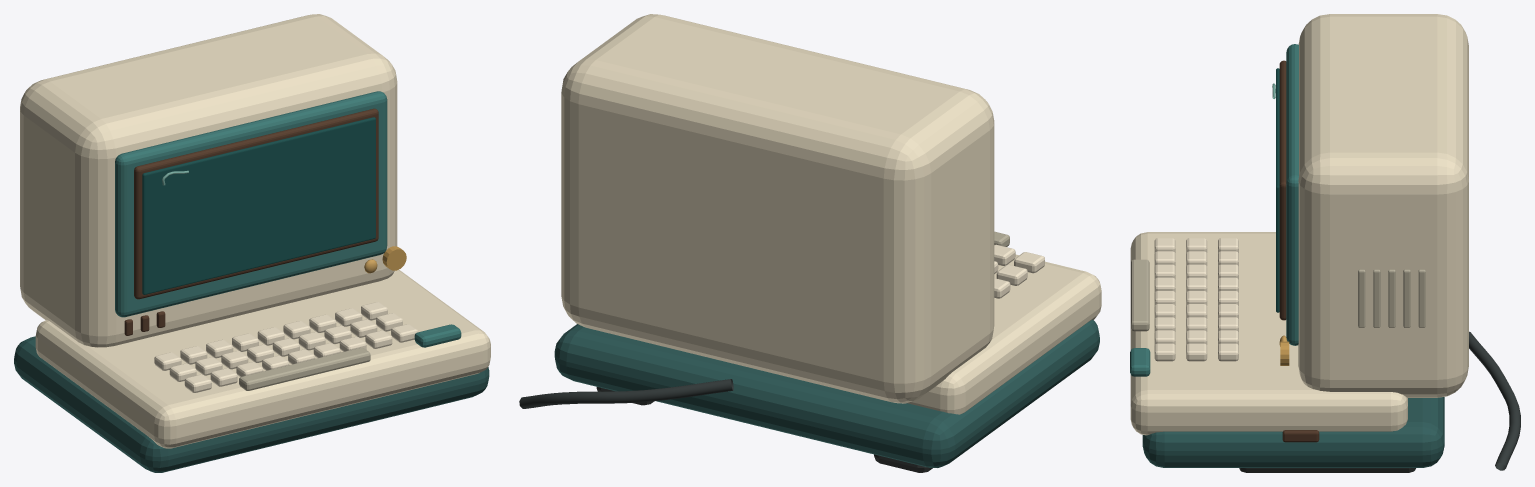
3 renders of one model, left to right at view 1: azimuth 30°, elevation 25°; view 2: azimuth 150°, elevation 25°; view 3: azimuth 270°, elevation 25°, orthographic. The views are drawn at different scales.
Parts seen in each view (by area): view 1: Monitor shell, Cream keyboard deck, terminal_screen, Teal lower chassis, Teal inner bezel, Dark screen well, Long space key, Teal send key; view 2: Monitor shell, Teal lower chassis, Cream keyboard deck, Rear power lead; view 3: Monitor shell, Cream keyboard deck, Teal lower chassis, Teal inner bezel, Dark screen well, Rear power lead, Long space key, terminal_screen, Soft rubber foot.001, Teal send key, Handset docking port, Side vent 0 (+4 smaller).
Part boxes in pixels (box(x1,y1,x2,y2)): Monitor shell: box(20, 14, 397, 347); Cream keyboard deck: box(35, 269, 490, 448); terminal_screen: box(142, 117, 375, 294); Teal lower chassis: box(14, 336, 489, 472); Teal inner bezel: box(115, 91, 387, 317); Dark screen well: box(134, 108, 378, 299); Long space key: box(239, 347, 370, 390); Teal send key: box(414, 324, 461, 347); Monitor shell: box(561, 14, 994, 403); Teal lower chassis: box(554, 319, 1099, 467); Cream keyboard deck: box(907, 254, 1101, 414); Rear power lead: box(519, 379, 733, 408); Monitor shell: box(1298, 14, 1468, 397); Cream keyboard deck: box(1130, 232, 1407, 435); Teal lower chassis: box(1142, 397, 1444, 467); Teal inner bezel: box(1286, 44, 1298, 345); Dark screen well: box(1279, 60, 1286, 320); Rear power lead: box(1469, 331, 1520, 470); Long space key: box(1131, 259, 1149, 331); terminal_screen: box(1276, 68, 1279, 312); Soft rubber foot.001: box(1239, 468, 1415, 472); Teal send key: box(1130, 348, 1150, 376); Handset docking port: box(1282, 430, 1319, 442); Side vent 0: box(1358, 269, 1365, 327).
Bounding box in the file's own units: 0.86 × 0.72 × 0.8029.
